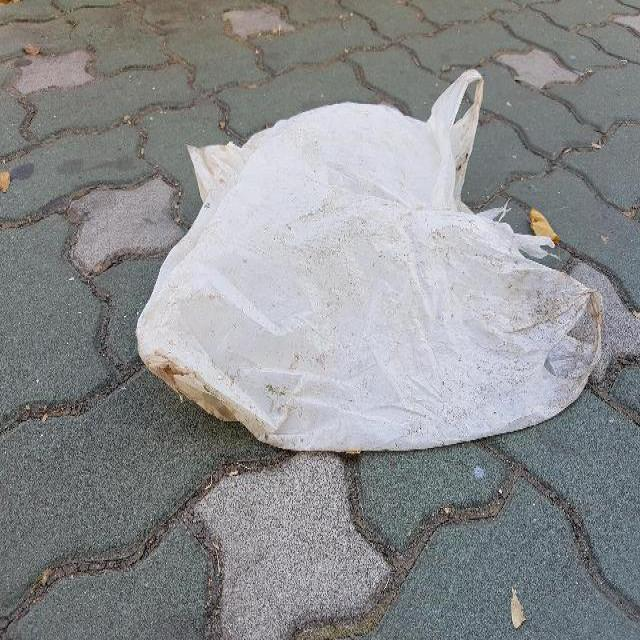plastic bag: (132, 62, 609, 456)
